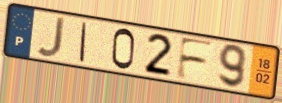0: (110, 27, 136, 71)
2: (144, 33, 176, 79)
9: (216, 44, 248, 90)
F: (174, 35, 217, 82)
I: (78, 20, 90, 64)
J: (35, 16, 68, 59)
